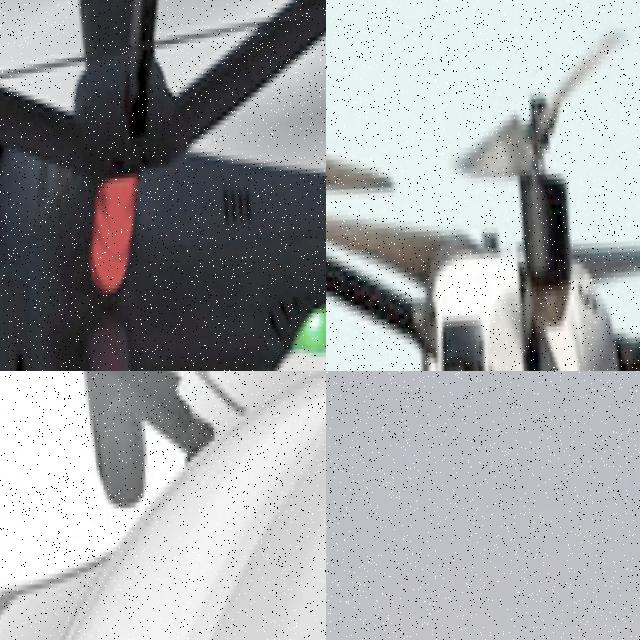drone: (0, 0, 326, 371), (326, 0, 640, 371), (0, 371, 326, 640)
